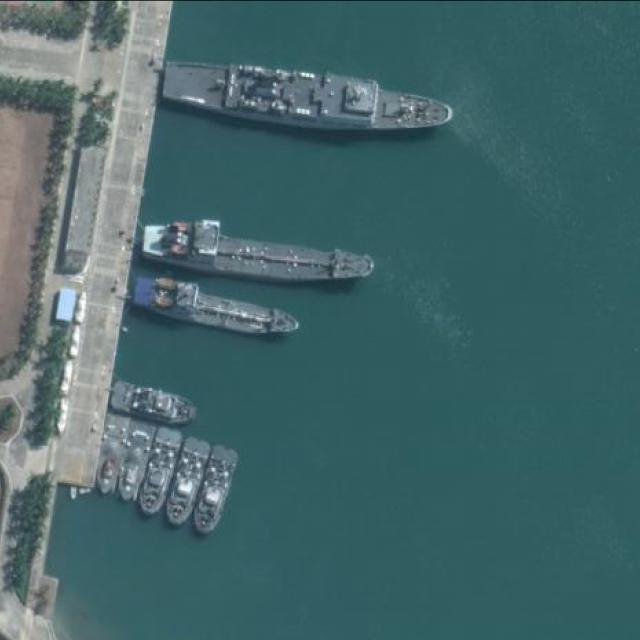Landing: (158, 50, 458, 145), (139, 209, 378, 292), (130, 273, 305, 341)
Other Warship: (158, 434, 215, 529), (186, 442, 242, 537), (109, 376, 201, 433), (131, 425, 186, 519), (108, 418, 159, 506), (87, 411, 135, 496)
